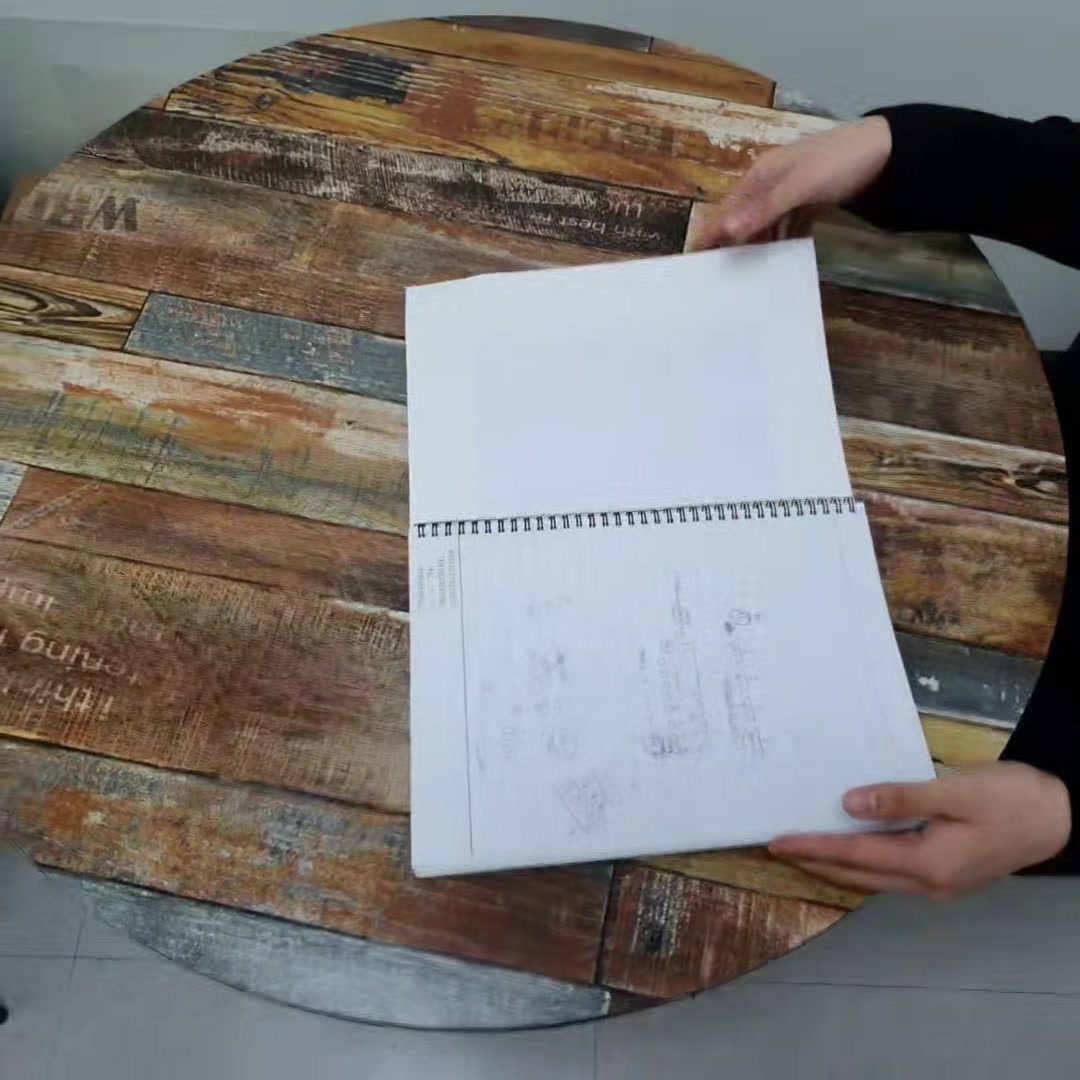book: (403, 237, 926, 864)
